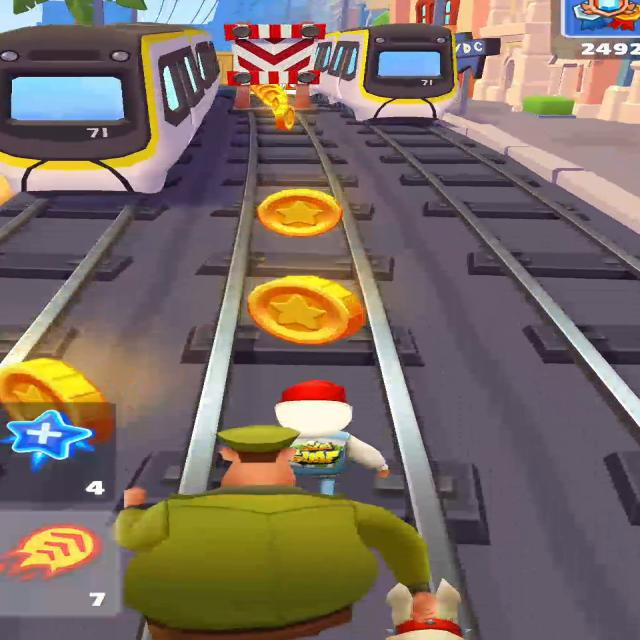jump-barrier: (225, 22, 325, 110)
police: (106, 426, 429, 638)
train: (0, 21, 228, 198), (322, 20, 459, 123)
